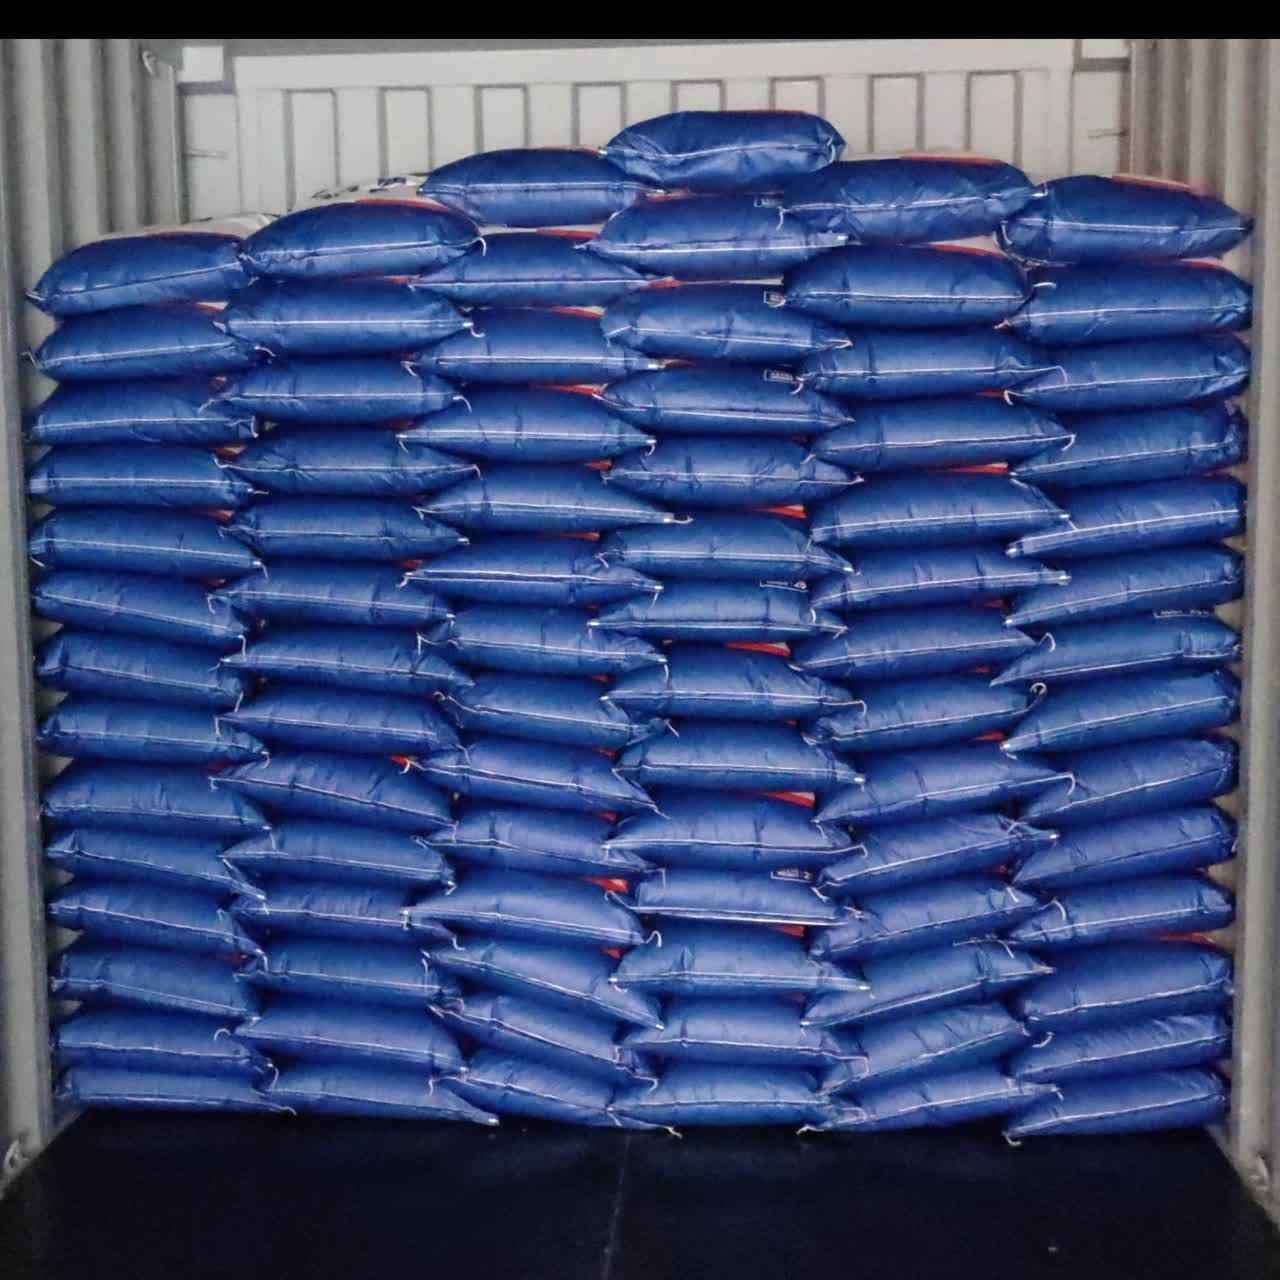sack: (27, 215, 270, 318), (241, 177, 481, 275), (779, 156, 1039, 246), (998, 176, 1251, 265), (587, 195, 846, 280), (813, 743, 1065, 831), (1012, 400, 1246, 492), (818, 813, 1057, 903), (1008, 545, 1242, 635), (1012, 942, 1232, 1037), (811, 874, 1046, 964), (600, 284, 847, 368), (802, 942, 1049, 1027), (606, 788, 852, 871), (429, 937, 659, 1026), (783, 246, 1028, 329), (400, 384, 651, 464), (435, 992, 651, 1084), (1008, 263, 1251, 345), (810, 472, 1067, 550), (1006, 477, 1244, 560), (813, 395, 1065, 474), (1020, 737, 1235, 829), (821, 1002, 1028, 1097), (792, 605, 1035, 686), (220, 278, 470, 356), (992, 613, 1240, 692), (606, 111, 843, 193), (605, 644, 852, 722), (601, 436, 859, 511), (1003, 670, 1239, 753), (1013, 804, 1235, 890), (810, 674, 1034, 758), (411, 308, 659, 384), (215, 753, 450, 832), (32, 302, 264, 383), (418, 735, 656, 813), (1013, 334, 1250, 413), (410, 869, 644, 948), (229, 424, 475, 499), (615, 721, 862, 796), (615, 922, 859, 998), (420, 149, 649, 227), (595, 365, 851, 435), (52, 934, 256, 1022), (36, 627, 248, 712), (797, 328, 1047, 400), (410, 535, 659, 606), (34, 570, 248, 652), (418, 232, 649, 308), (812, 544, 1069, 612), (597, 513, 849, 583), (234, 996, 463, 1073), (42, 761, 268, 837), (226, 682, 459, 756), (429, 799, 653, 876), (1010, 874, 1233, 951), (225, 625, 470, 694), (54, 1003, 267, 1082), (427, 464, 676, 531), (217, 355, 461, 423), (428, 606, 665, 675), (50, 878, 258, 956), (1009, 1012, 1230, 1085), (46, 824, 263, 899), (30, 508, 258, 579), (38, 695, 268, 765), (217, 560, 449, 629), (1005, 1069, 1228, 1141), (816, 1064, 1051, 1131), (226, 819, 452, 888), (624, 998, 850, 1067), (237, 937, 451, 1009), (263, 1061, 499, 1126), (28, 377, 256, 445), (588, 581, 840, 642), (445, 673, 644, 750), (29, 442, 258, 509), (229, 497, 463, 561), (452, 1048, 634, 1128), (232, 879, 452, 944), (624, 869, 851, 928), (612, 1065, 822, 1128), (57, 1063, 292, 1114)
